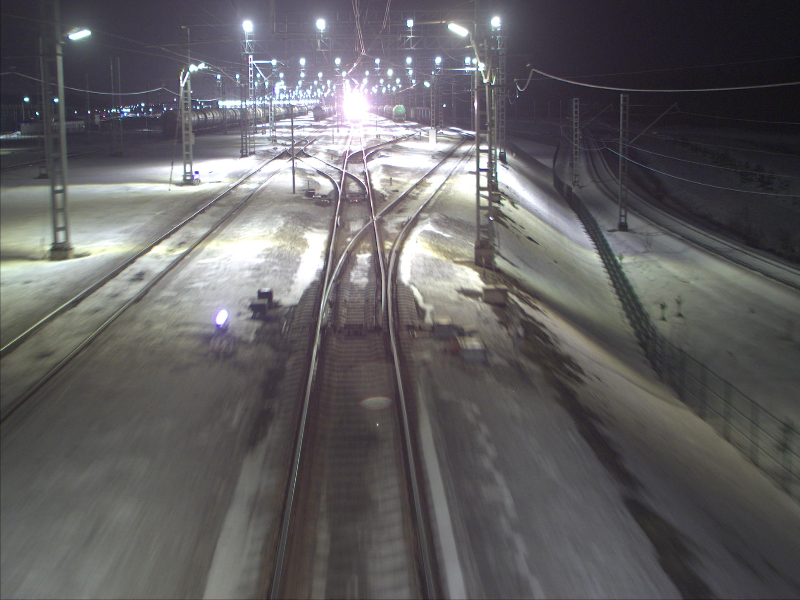right: (321, 219, 395, 316), (337, 169, 373, 198)
